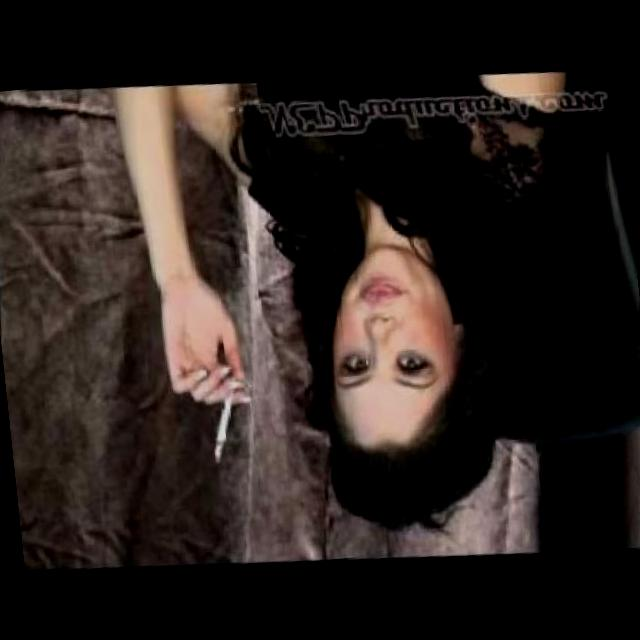smoke: (204, 385, 243, 467)
